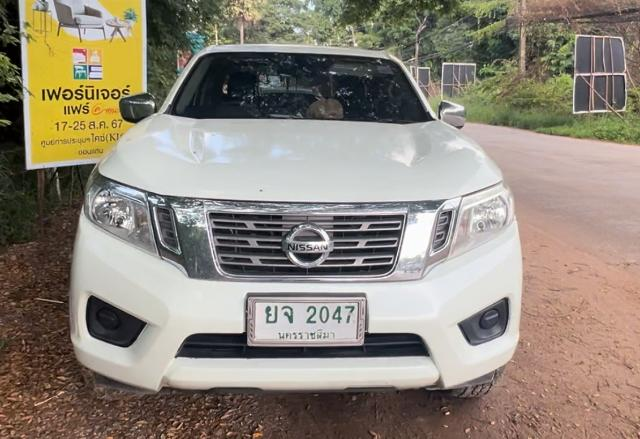pickup-truck: (63, 35, 524, 405)
